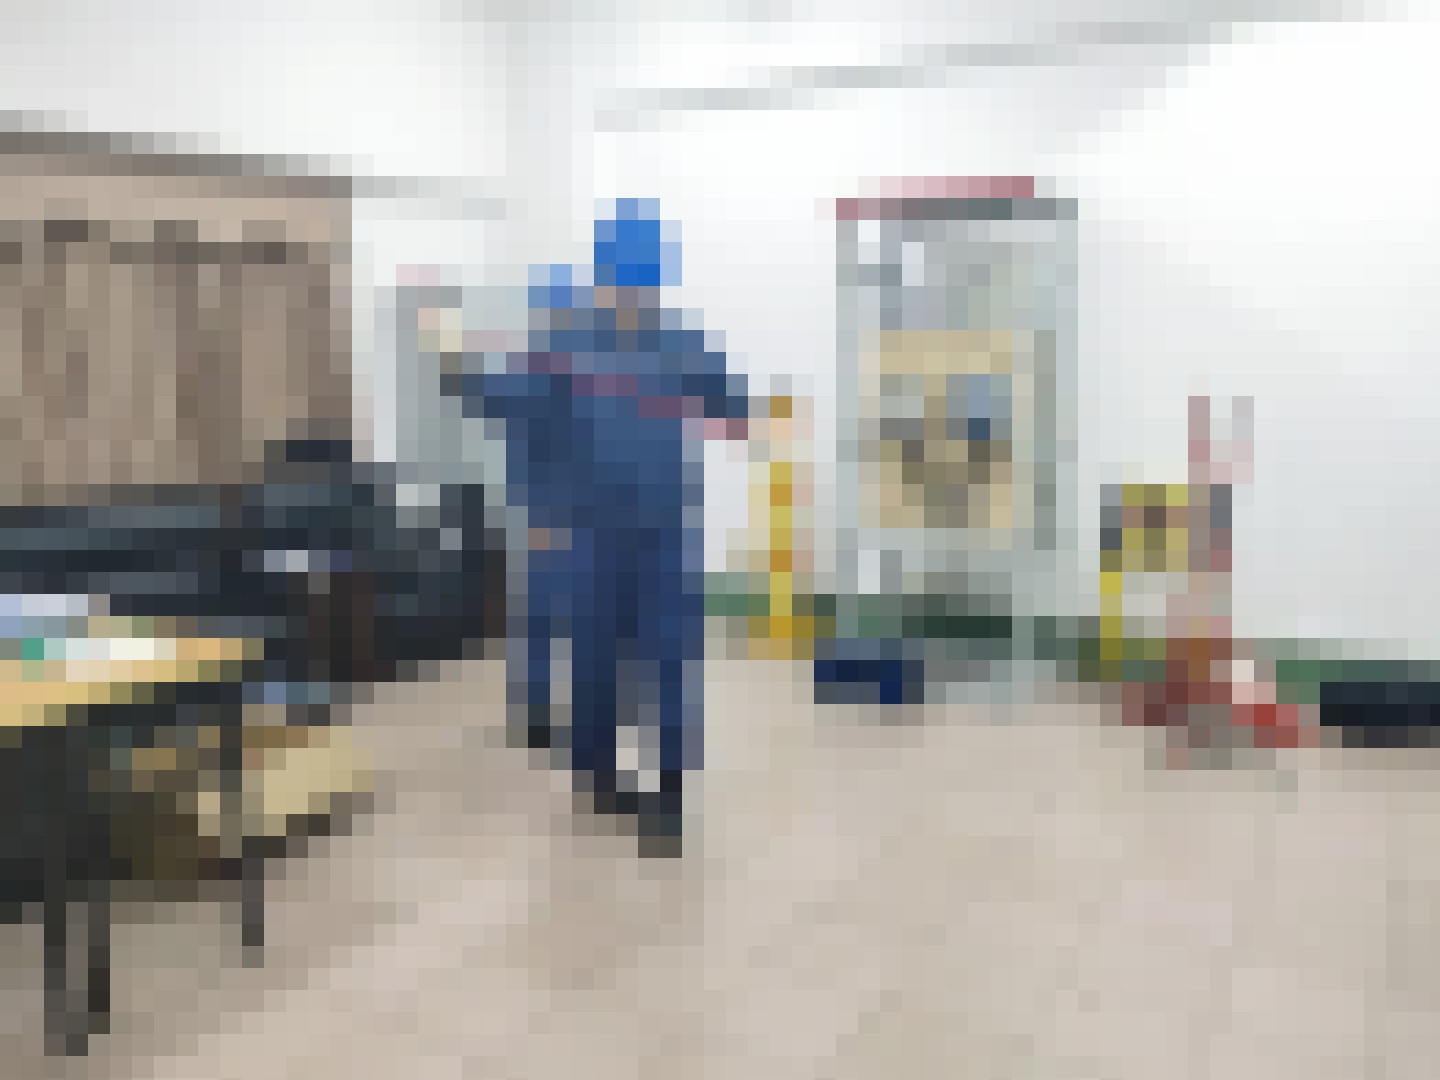downsuit: (559, 553, 711, 773), (497, 538, 566, 695)
halt: (590, 202, 677, 318), (528, 264, 594, 330)
hand: (530, 525, 561, 557)
person: (435, 202, 763, 835)
testrod: (414, 301, 760, 448)
upsuit: (454, 304, 757, 529)
wglove: (418, 298, 477, 371), (757, 421, 802, 464)
